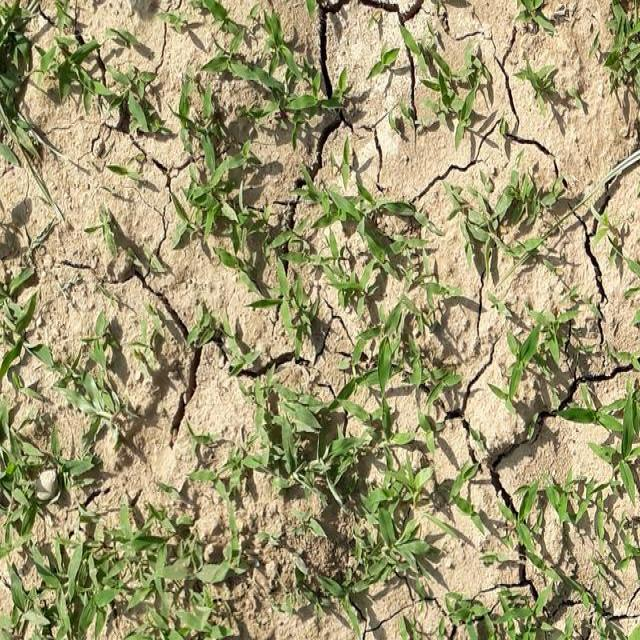weed: (242, 360, 432, 588), (182, 41, 321, 287), (480, 460, 640, 639), (16, 510, 230, 640)
